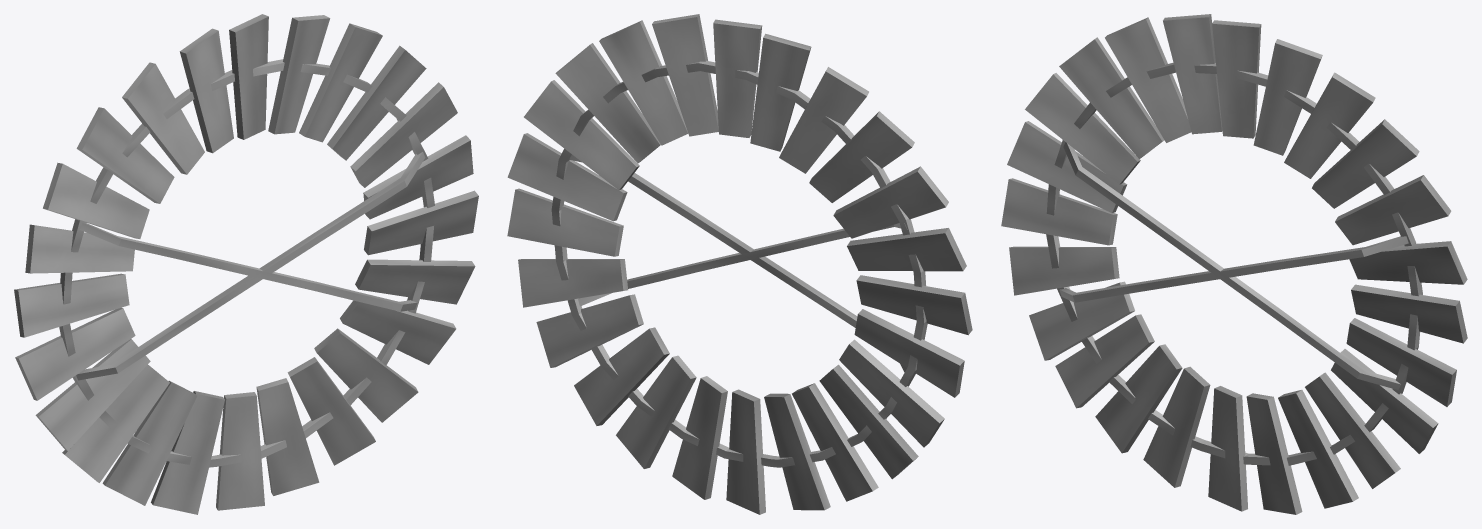
Rendered from modelWindmillWheel.obj.
The picture shows the model from 3 angles, left to right: view 1: azimuth 30°, elevation 25°; view 2: azimuth 150°, elevation 25°; view 3: azimuth 330°, elevation 25°; orthographic projection.
Parts seen in each view (by area): view 1: Cube; view 2: Cube; view 3: Cube.
Part boxes in pixels (x1,y1,x2,y2): Cube: (14,14,478,514); Cube: (507,14,972,514); Cube: (1001,14,1467,514).
Bounding box in the file's own units: 2.07 × 2.09 × 0.1644.
